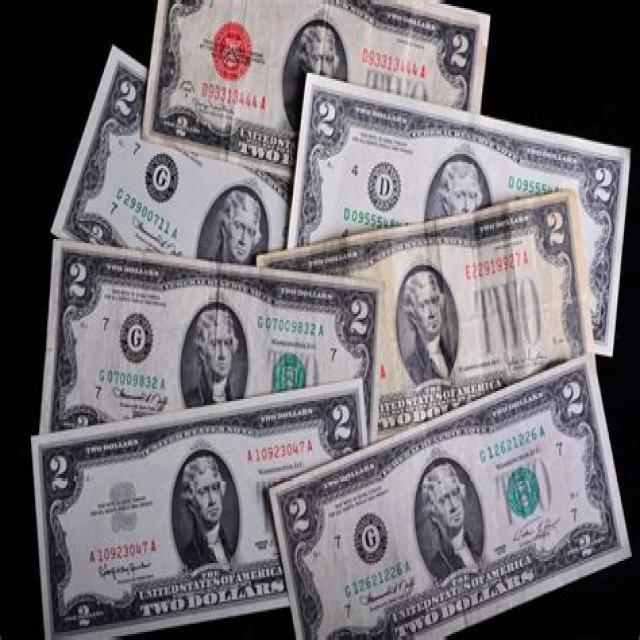Two: (273, 362, 629, 640), (291, 74, 629, 359), (34, 382, 364, 640), (47, 240, 379, 432), (364, 190, 591, 433), (150, 0, 487, 158), (51, 48, 290, 260)
